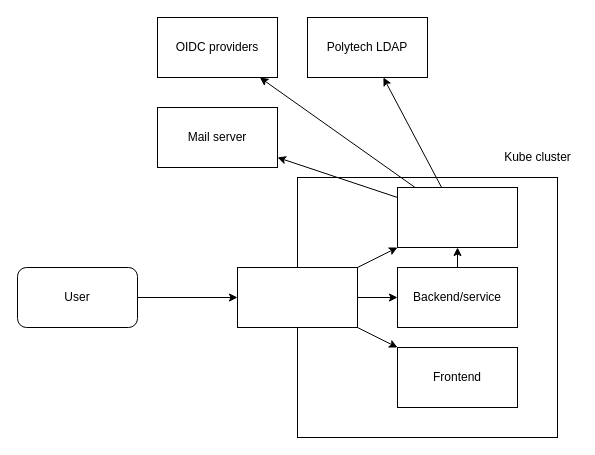
The diagram is 595 pixels wide and 455 high, and some of its shapes have lost their labels. The shapes that lost their labels are listed below. From the top down, each one's centre as x and y in pixels, then its label:
the point at 457,217: Keycloak
the point at 297,297: Ingress
